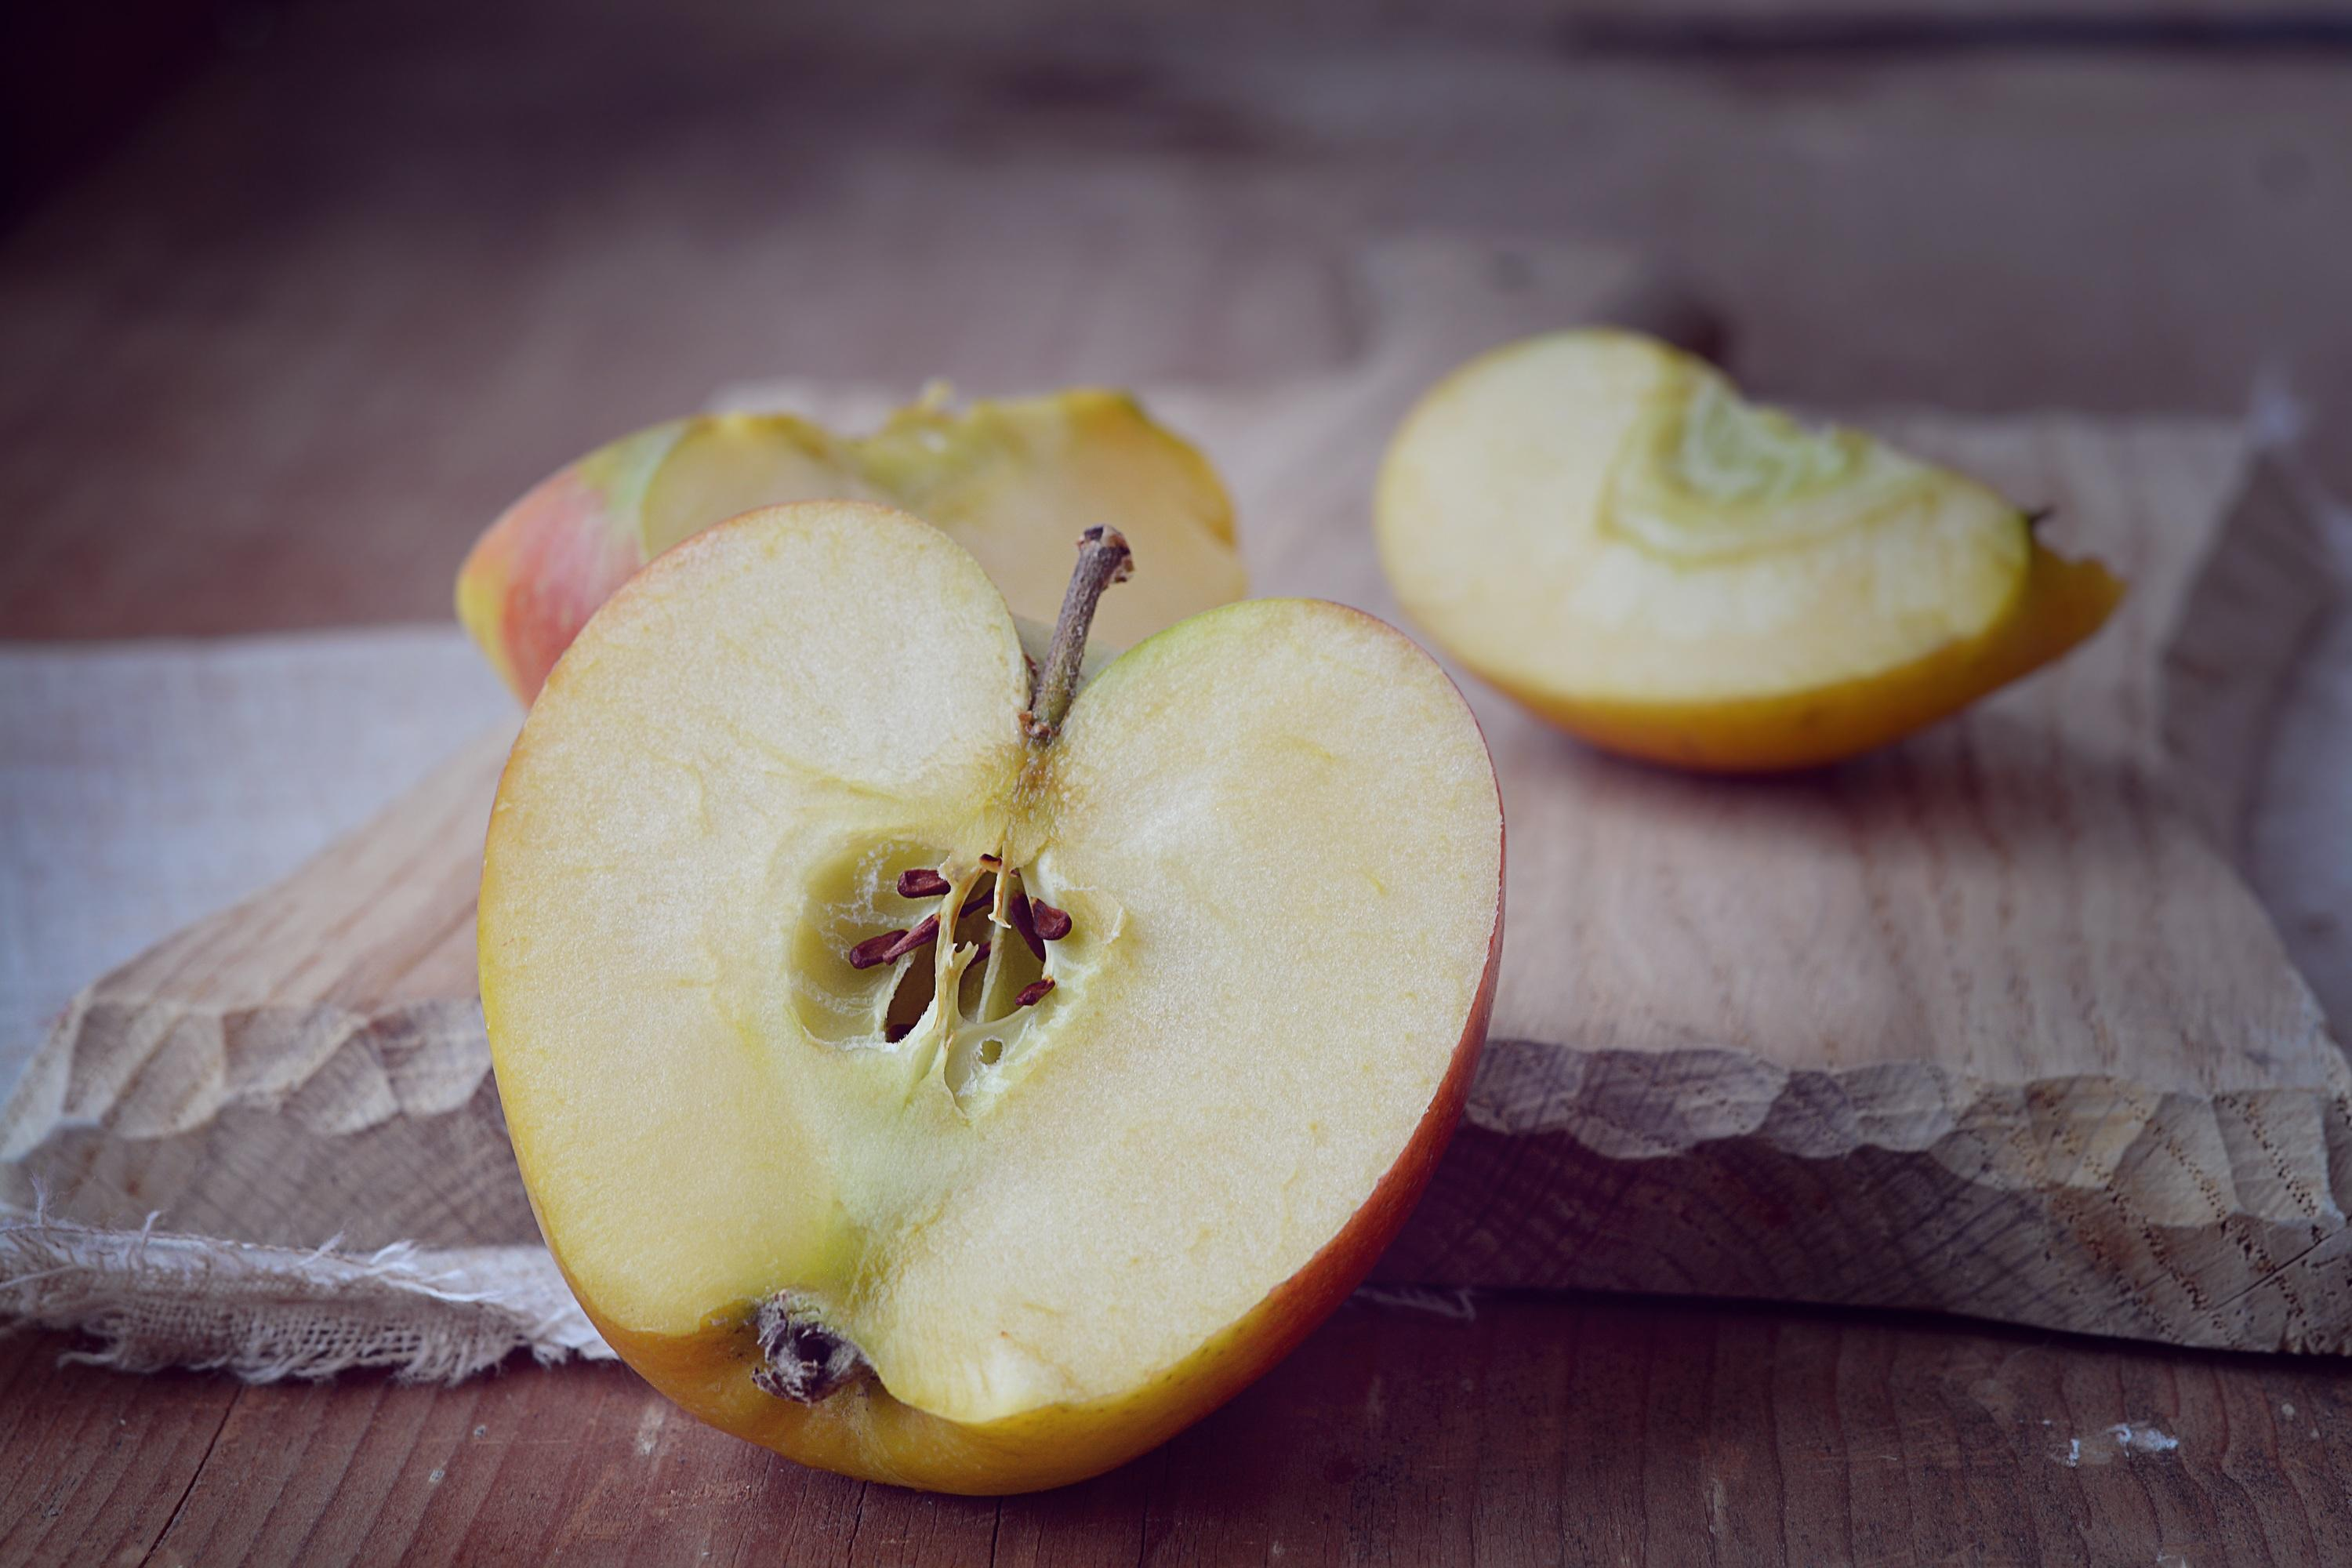Apple: (448, 499, 1589, 1498)
